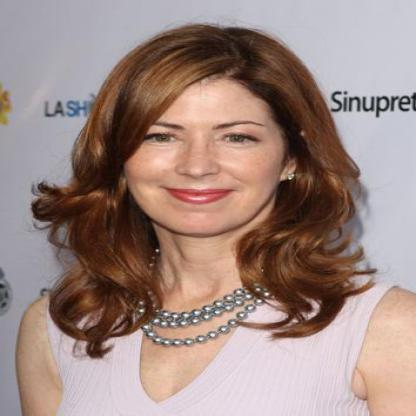long-hair: (37, 230, 366, 288)
